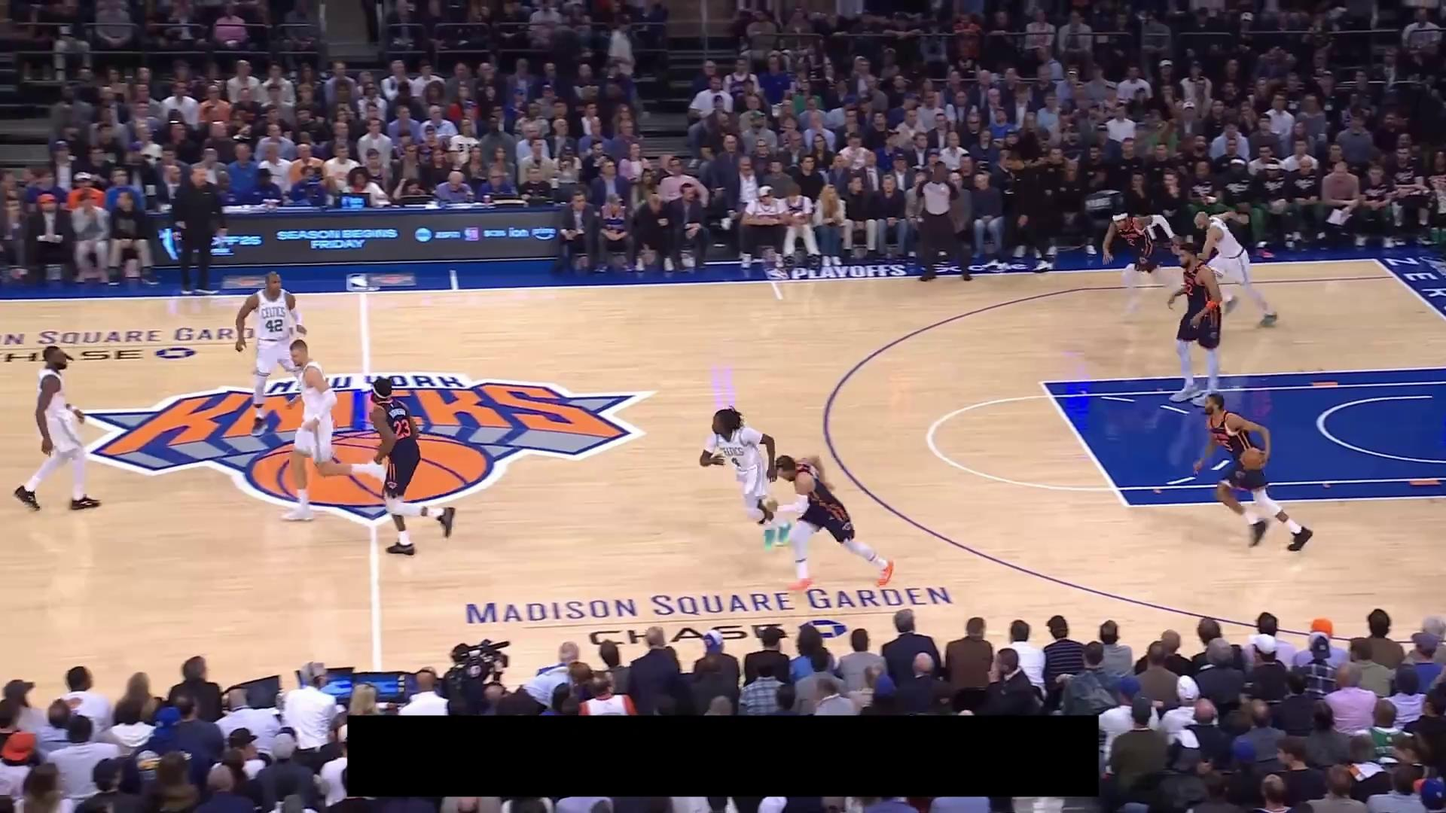ball: (1240, 447, 1264, 471)
number: (393, 419, 411, 439), (264, 317, 284, 333), (729, 456, 742, 469)
player: (279, 336, 388, 523), (763, 455, 895, 592), (365, 377, 456, 557), (12, 343, 102, 512), (699, 407, 794, 554), (233, 269, 309, 439), (1192, 209, 1279, 328), (1166, 242, 1225, 407), (1100, 204, 1183, 320)
player-in-possession: (1192, 393, 1314, 551)
referee: (911, 160, 973, 282)
